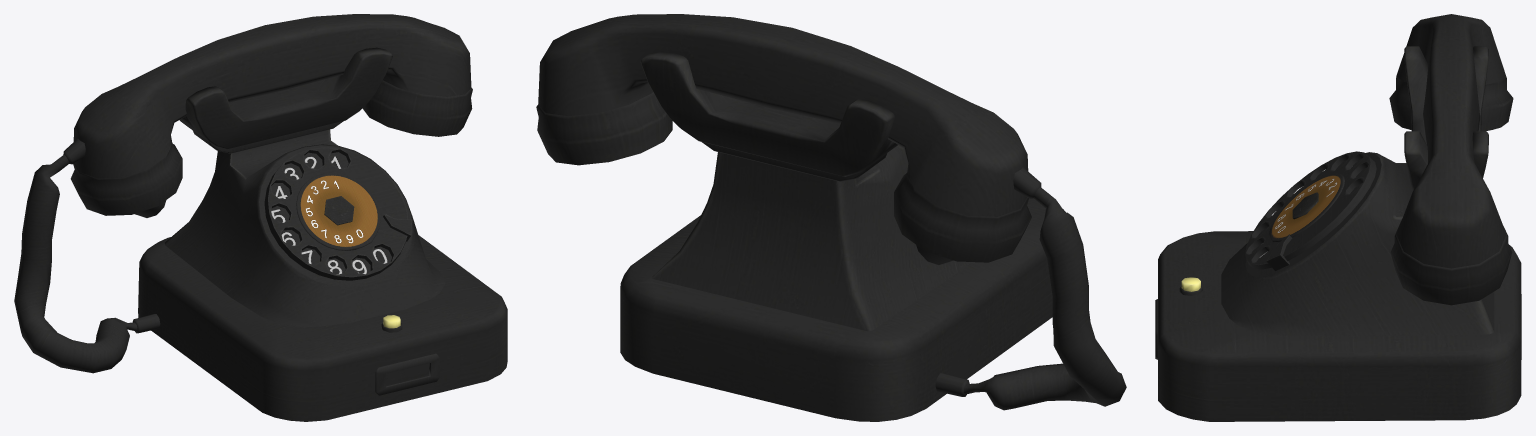
Rendered from phone.glb.
The picture shows the model from 3 angles, left to right: view 1: azimuth 30°, elevation 25°; view 2: azimuth 150°, elevation 25°; view 3: azimuth 270°, elevation 25°; orthographic projection. The views are drawn at different scales.
Parts seen in each view (by area): view 1: Object_2; view 2: Object_2; view 3: Object_2.
Part boxes in pixels (left/top/right/bottom): Object_2: left=14, top=14, right=507, bottom=421; Object_2: left=536, top=14, right=1126, bottom=421; Object_2: left=1155, top=14, right=1521, bottom=421.
Size of the model in its own units: 28.21 by 16.28 by 18.1.
Materials: 1 (1 with a texture image).
